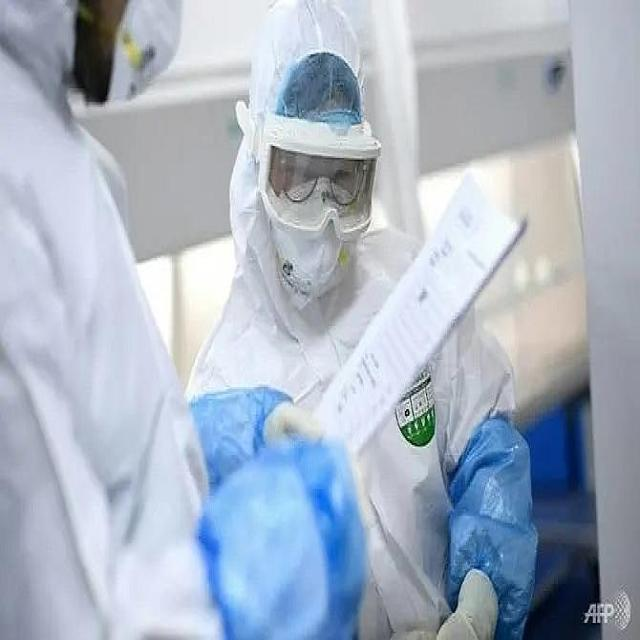Coverall: (182, 0, 516, 637), (0, 2, 218, 635)
Gloves: (438, 569, 500, 637)
Goggles: (262, 117, 379, 243)
Mask: (274, 180, 361, 297), (108, 0, 181, 107)
